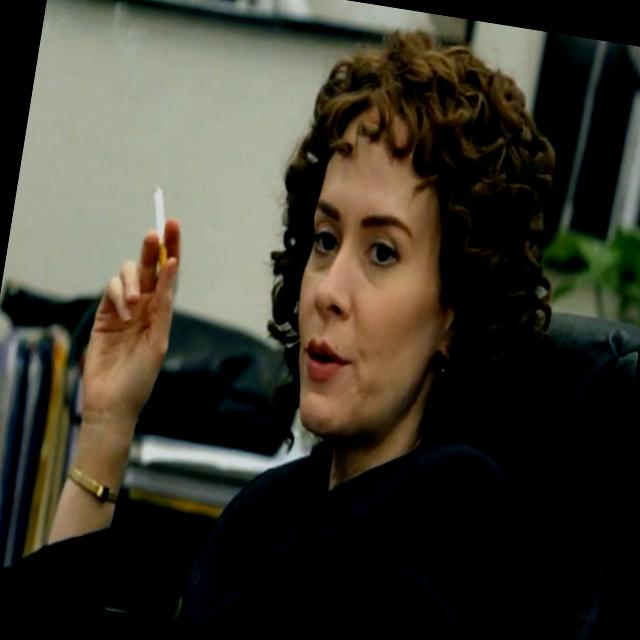cigarette: (120, 142, 194, 306)
